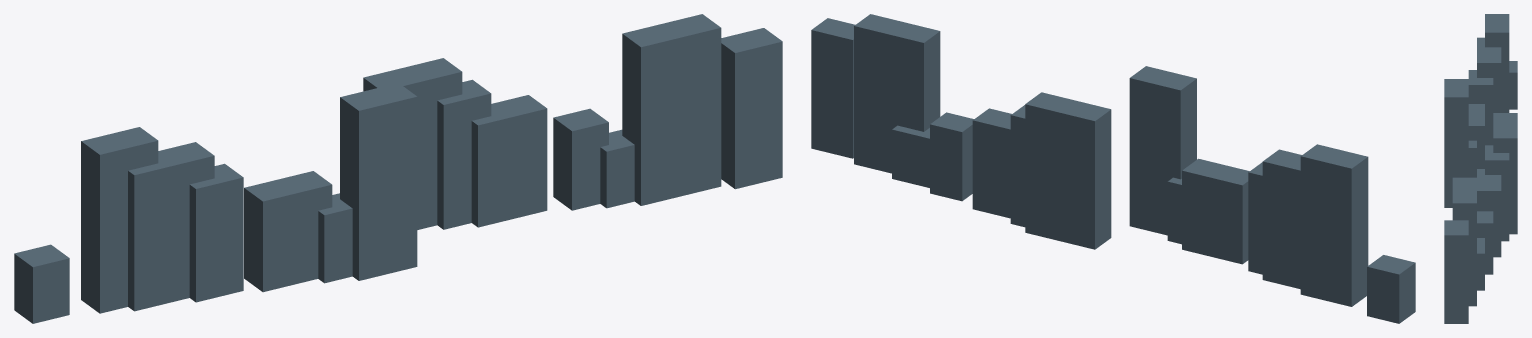
The model's file is skyline.glb.
The picture shows the model from 3 angles, left to right: view 1: azimuth 30°, elevation 25°; view 2: azimuth 150°, elevation 25°; view 3: azimuth 270°, elevation 25°; orthographic projection. The views are drawn at different scales.
Size of the model in its own units: 65.7 by 15 by 9.
